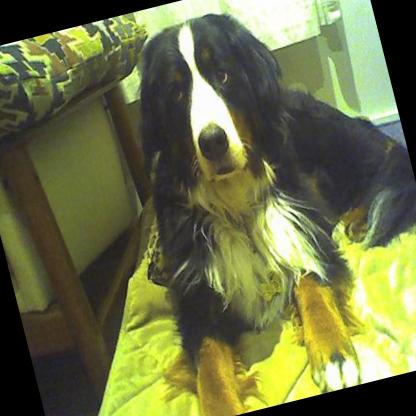Bernese_mountain_dog: (104, 0, 416, 416)
